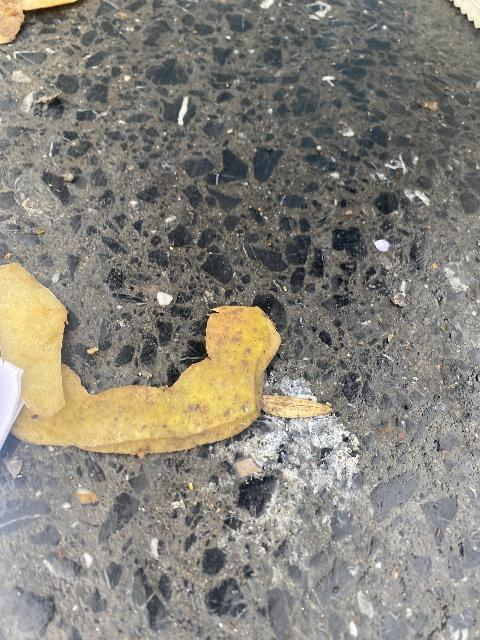Organik: (0, 276, 292, 463), (0, 0, 86, 51)
